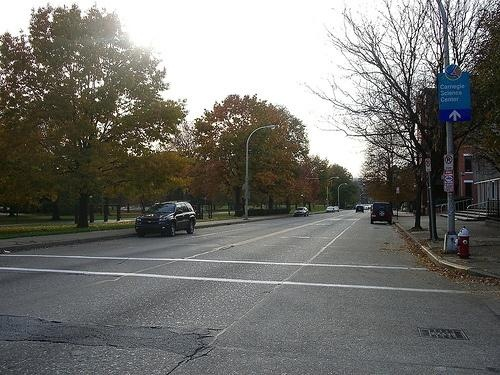car: (136, 202, 196, 239), (370, 203, 395, 227)
